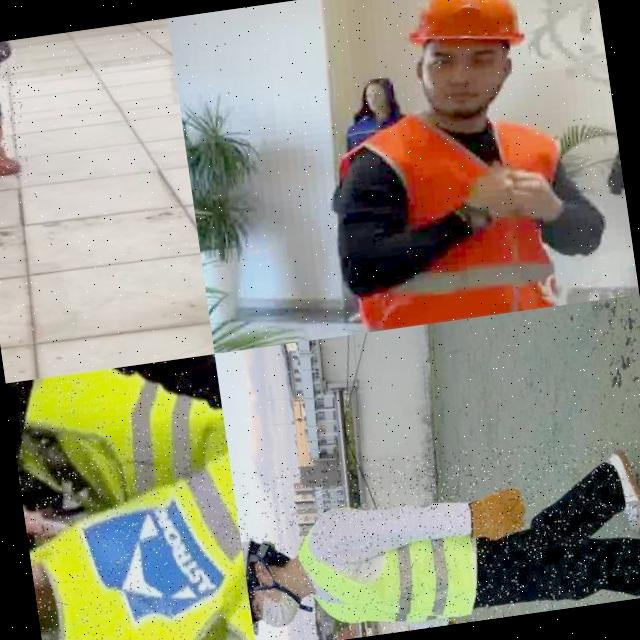boots: (593, 432, 640, 546), (0, 109, 29, 180), (627, 535, 640, 599)
helmet: (400, 0, 532, 59), (239, 527, 274, 640)
vest: (319, 92, 589, 336), (14, 416, 256, 640), (6, 354, 234, 524), (289, 487, 494, 640)
